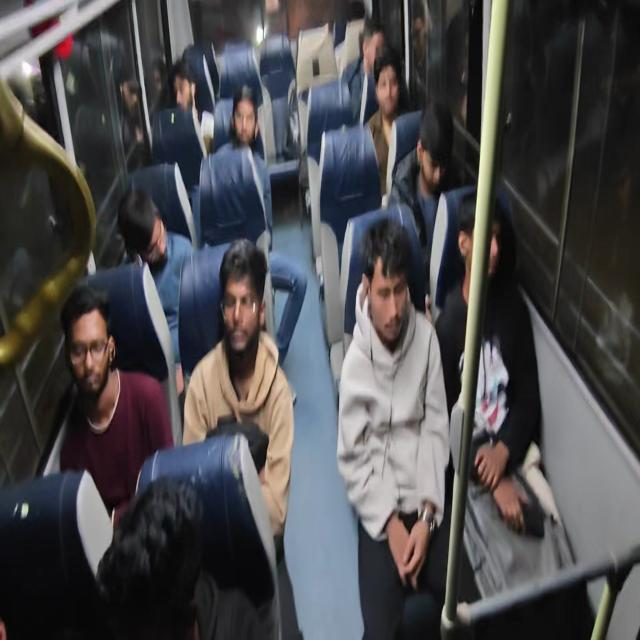person: (336, 217, 451, 638), (435, 192, 543, 533), (182, 237, 295, 555), (57, 284, 174, 533), (209, 86, 307, 370), (95, 475, 204, 639), (117, 185, 193, 382), (387, 101, 454, 257), (211, 85, 273, 242), (363, 50, 407, 208), (342, 19, 386, 126), (168, 60, 213, 158), (117, 68, 149, 170), (409, 0, 432, 109), (149, 57, 168, 118)
